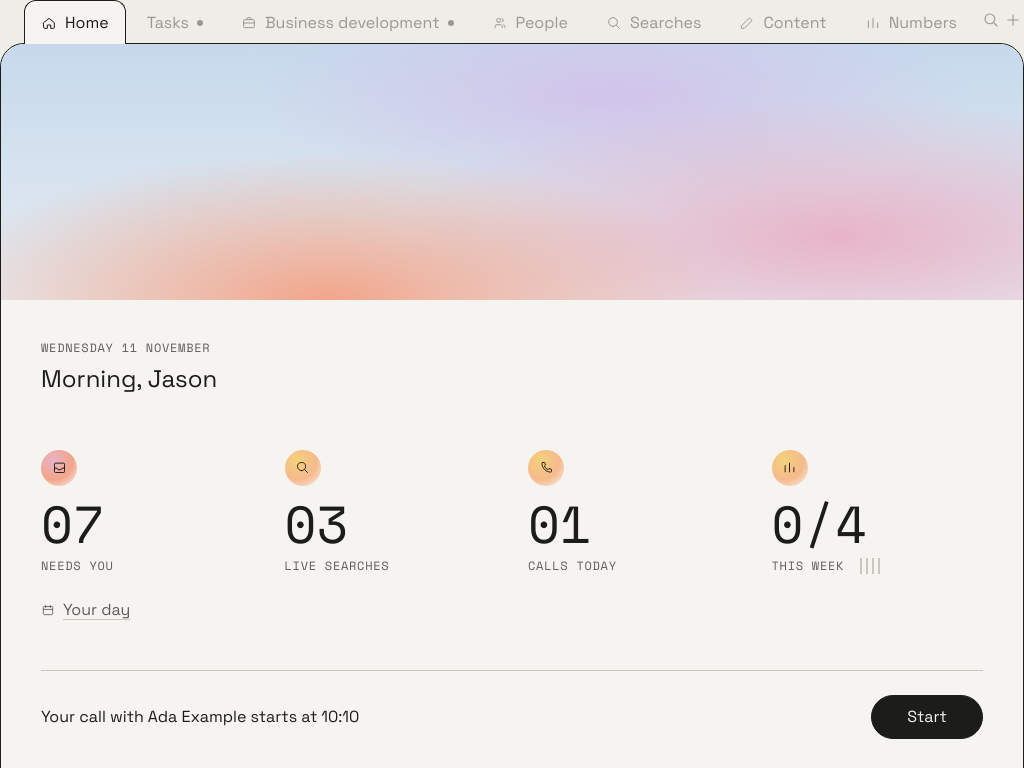
Test: Home › T-HOME-5 names a call starting in 10 minutes, and Start opens its prep card
This screenshot has width=1024, height=768.
Check: the text with test id "next-line" reads "Your call with Ada Example starts at 10:10", box 41,706 -> 359,727
Click the button "Start": coordinates (927, 717) 871,695 -> 983,739
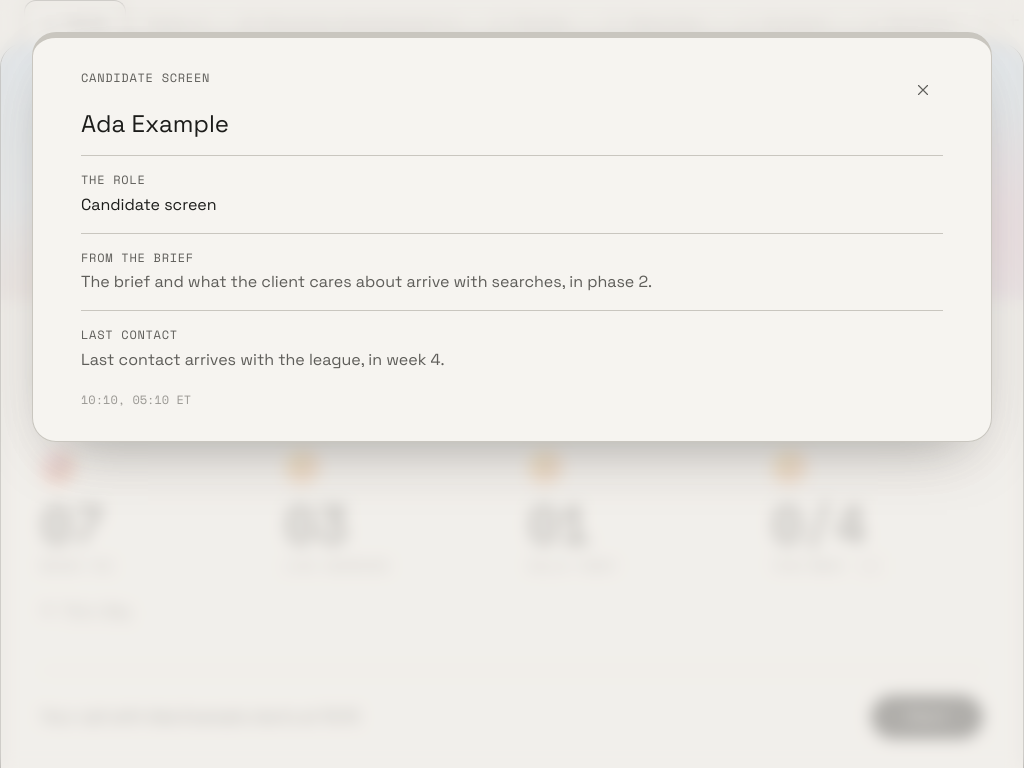
Check: the 1st text "Candidate screen" is shown, box 81,69 -> 210,86
Check: the heading "The role" is shown, box 81,171 -> 146,188
Check: the text "10:10, 05:10 ET" is shown, box 81,391 -> 191,408
